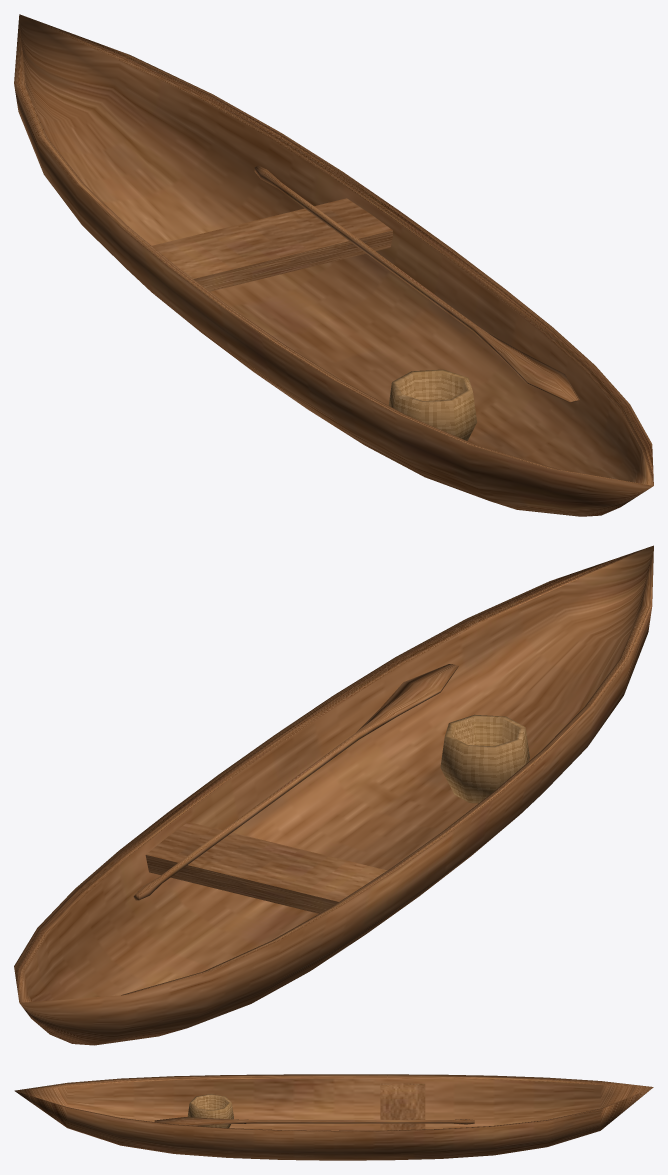
Rendered from MONTRA-ayutthaya-dugout-LOD2.glb.
The picture shows the model from 3 angles, top to bottom: view 1: azimuth 30°, elevation 25°; view 2: azimuth 150°, elevation 25°; view 3: azimuth 270°, elevation 25°; orthographic projection. The views are drawn at different scales.
Parts seen in each view (by area): view 1: Dugout_Hull, Rowers_Thwart, Single_Blade_Paddle, Woven_Fishing_Basket; view 2: Dugout_Hull, Rowers_Thwart, Woven_Fishing_Basket, Single_Blade_Paddle; view 3: Dugout_Hull, Rowers_Thwart, Single_Blade_Paddle, Woven_Fishing_Basket.
Boxes of the visible parts, box(x1,y1,x2,y2) form: Dugout_Hull: box(14, 14, 653, 516); Rowers_Thwart: box(152, 198, 392, 291); Single_Blade_Paddle: box(254, 165, 579, 402); Woven_Fishing_Basket: box(388, 369, 476, 440); Dugout_Hull: box(14, 545, 653, 1045); Rowers_Thwart: box(145, 822, 387, 913); Woven_Fishing_Basket: box(440, 714, 529, 803); Single_Blade_Paddle: box(133, 664, 458, 900); Dugout_Hull: box(14, 1074, 653, 1160); Rowers_Thwart: box(380, 1083, 425, 1130); Single_Blade_Paddle: box(154, 1117, 474, 1125); Woven_Fishing_Basket: box(187, 1094, 233, 1128).
Size of the model in its own units: 0.85 by 0.45 by 4.
Materials: 2 (2 with a texture image).
